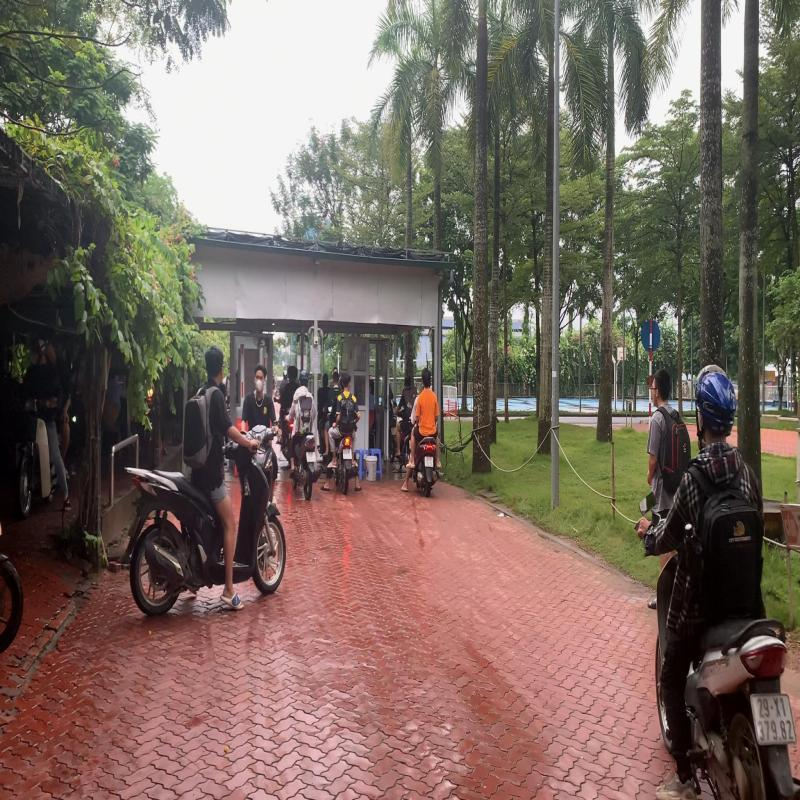nohelmet: (204, 342, 226, 384), (422, 367, 431, 389), (342, 372, 351, 392)
